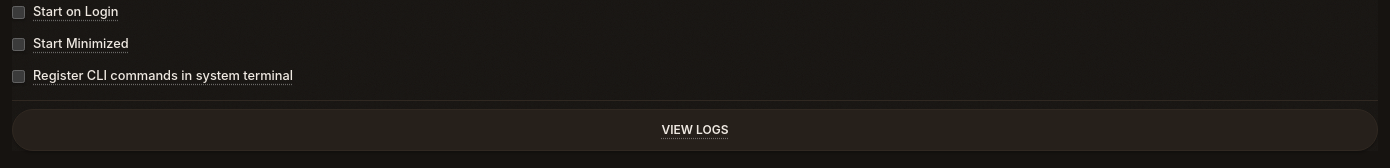
Test: Settings Component › renders consolidated dotted-underline tooltips for settings toggles and actions
Check: the button with test id "btn-view-logs" is shown, box [12,109,1378,151]
Check: the button with test id "btn-start-on-login-info" is shown, box [33,0,118,24]
Trigger tooltip on View Logs
Step 1. Hover over the button with test id "btn-view-logs-help" → (695, 130), box [662,118,728,142]
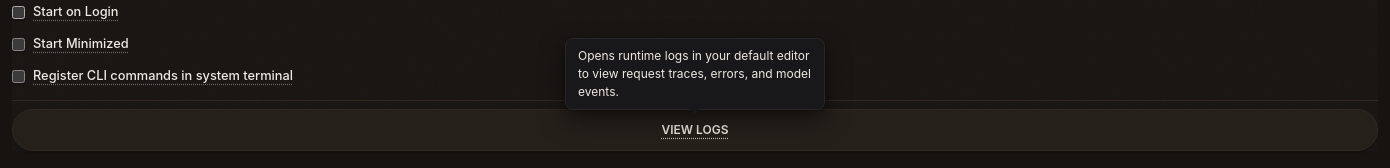
Check: the tooltip with test id "view-logs-help-box" is shown, box [565,38,825,110]
